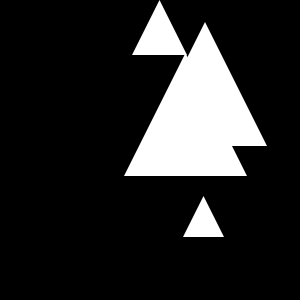triangle: (143, 22, 267, 146), (124, 53, 247, 176), (132, 0, 187, 55), (183, 196, 224, 237)
